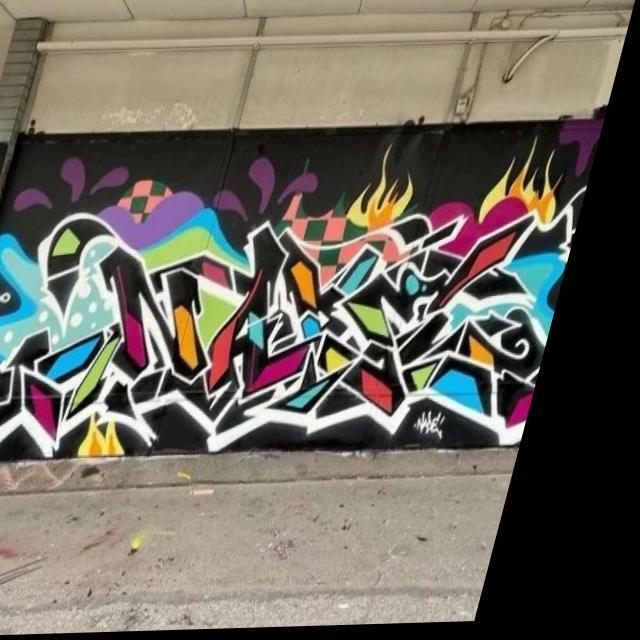nonspitting: (0, 120, 600, 456)
